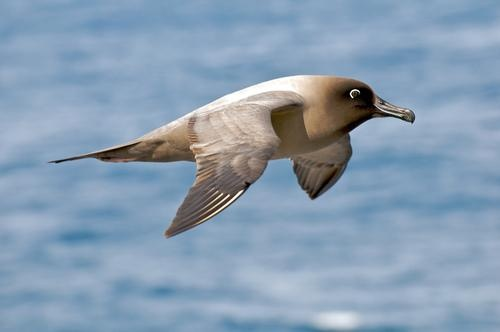bird: (44, 75, 417, 240)
